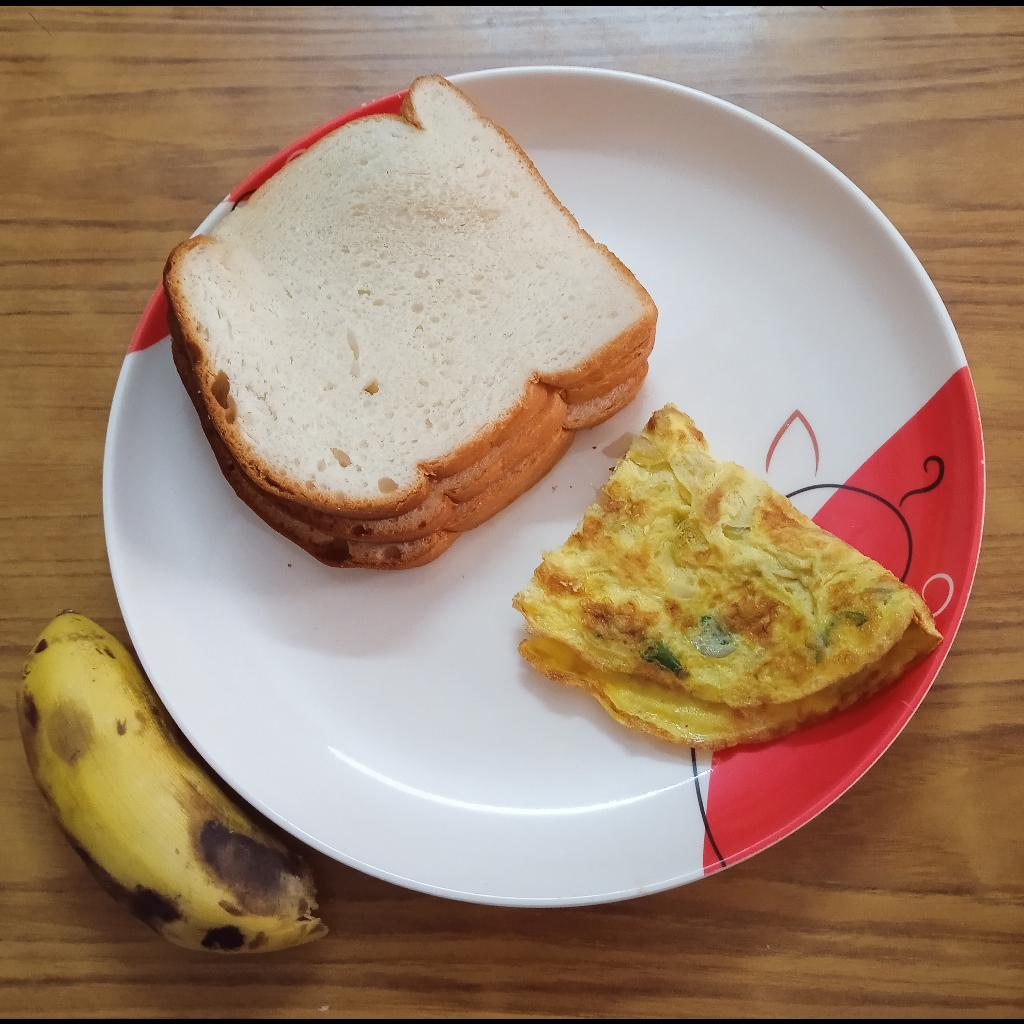banana: (16, 609, 327, 952)
bread: (164, 75, 657, 572)
egg: (516, 403, 943, 751)
